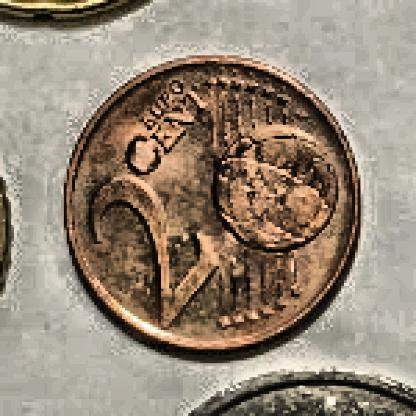coin: (61, 54, 362, 363)
